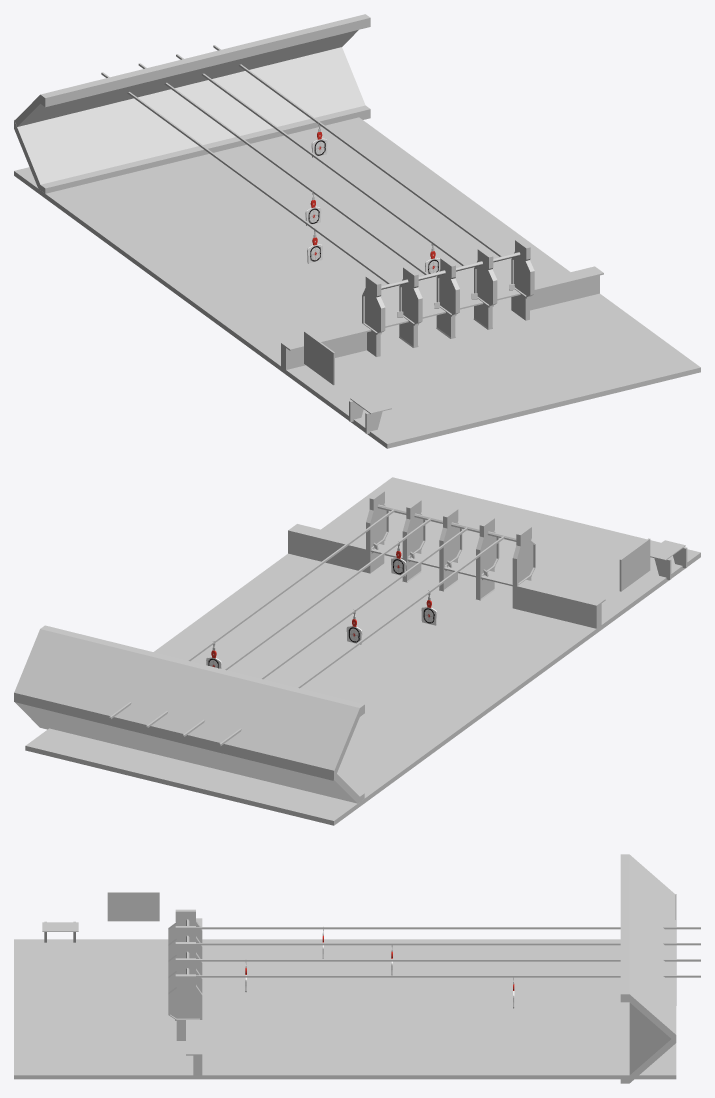
The model's file is shootingrange.fbx.
3 renders of one model, top to bottom at view 1: azimuth 30°, elevation 25°; view 2: azimuth 150°, elevation 25°; view 3: azimuth 270°, elevation 25°, orthographic. The views are drawn at different scales.
Visible parts, largest first — view 1: floor2, idk what this, seperators, linefordings, Cube.009, windowsshield, weapon holder, Tables; view 2: floor2, idk what this, Cube.009, seperators, linefordings, windowsshield, weapon holder, Tables; view 3: floor2, idk what this, linefordings, seperators, weapon holder, windowsshield, Cube.009, grenade table.
Part boxes in pixels (left/top/right/bottom): floor2: left=14, top=117, right=700, bottom=448; idk what this: left=14, top=14, right=370, bottom=193; seperators: left=362, top=239, right=534, bottom=356; linefordings: left=101, top=45, right=502, bottom=283; Cube.009: left=281, top=266, right=603, bottom=369; windowsshield: left=365, top=256, right=529, bottom=332; weapon holder: left=304, top=331, right=334, bottom=385; Tables: left=385, top=287, right=520, bottom=327; floor2: left=25, top=477, right=700, bottom=825; idk what this: left=14, top=625, right=364, bottom=803; Cube.009: left=288, top=524, right=605, bottom=628; seperators: left=366, top=490, right=535, bottom=609; linefordings: left=109, top=509, right=504, bottom=745; windowsshield: left=371, top=508, right=533, bottom=582; weapon holder: left=619, top=538, right=650, bottom=591; Tables: left=370, top=544, right=512, bottom=586; floor2: left=14, top=939, right=676, bottom=1079; idk what this: left=620, top=854, right=676, bottom=1083; linefordings: left=196, top=927, right=700, bottom=977; seperators: left=168, top=909, right=202, bottom=1040; weapon holder: left=107, top=892, right=159, bottom=921; windowsshield: left=170, top=923, right=199, bottom=1018; Cube.009: left=186, top=918, right=202, bottom=1075; grenade table: left=42, top=922, right=78, bottom=931.
Size of the model in its own units: 7557 by 2229 by 15408.
